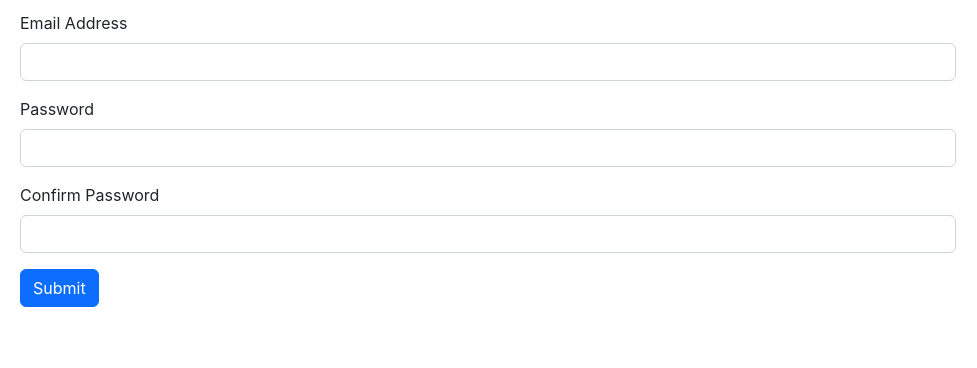
it: App component › Error handling › show a confirm password error message if the passwords don't match
This screenshot has width=977, height=368.
Expected: the text "Your password does not match, please correct." is not shown
Type "test@test.com" into the field at coordinates (488, 62), box [20,43,956,81]
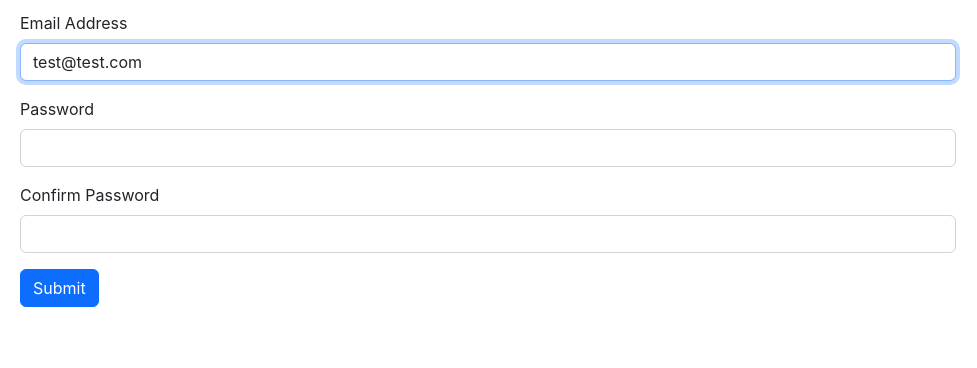
Type "password" into the password field labelled "Password" at coordinates (488, 148), box [20,129,956,167]
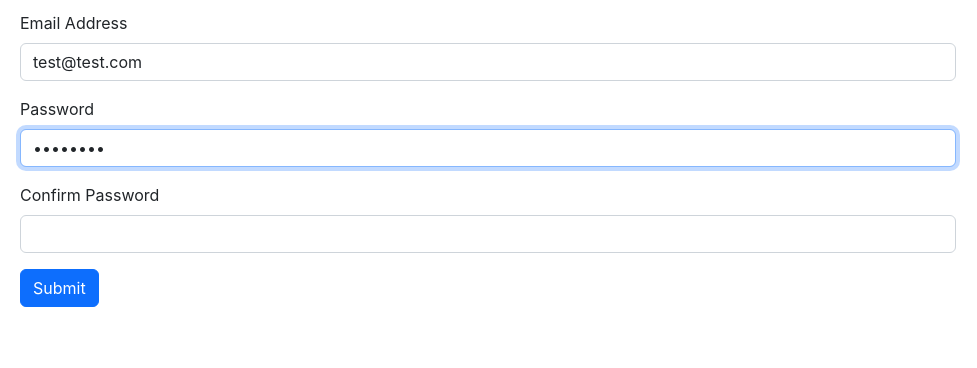
Type "differentPassword" into the password field labelled "Confirm Password" at coordinates (488, 234), box [20,215,956,253]
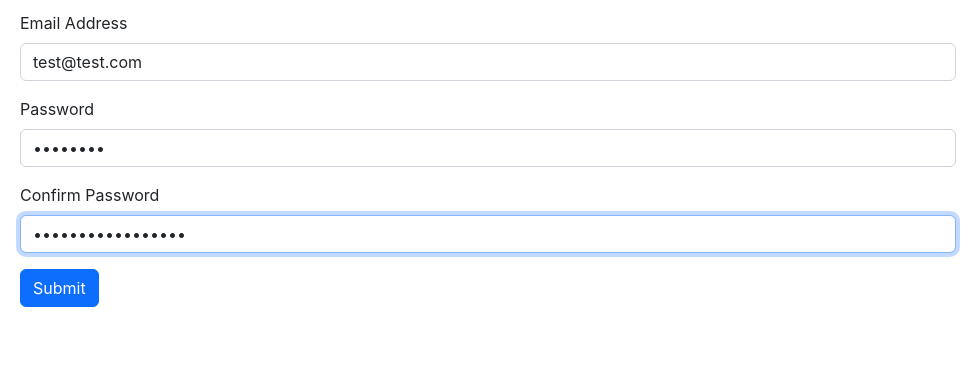
Click the button "Submit" at coordinates (59, 288), box [20,269,99,307]
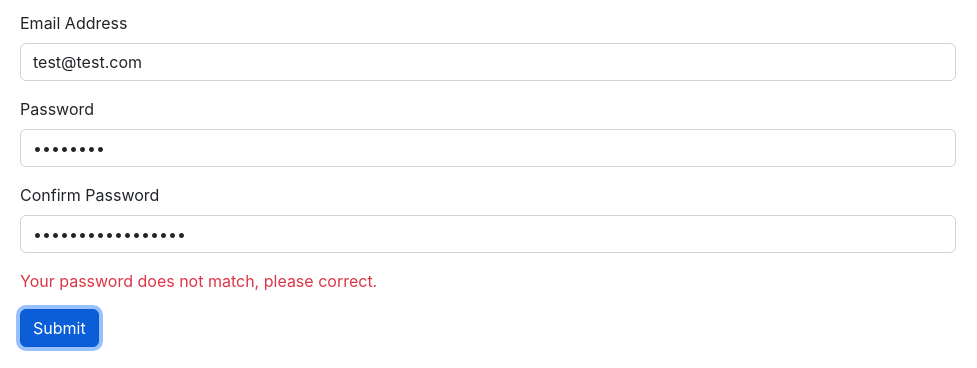
Expected: the text "Your password does not match, please correct." is shown, [20,271,377,291]
